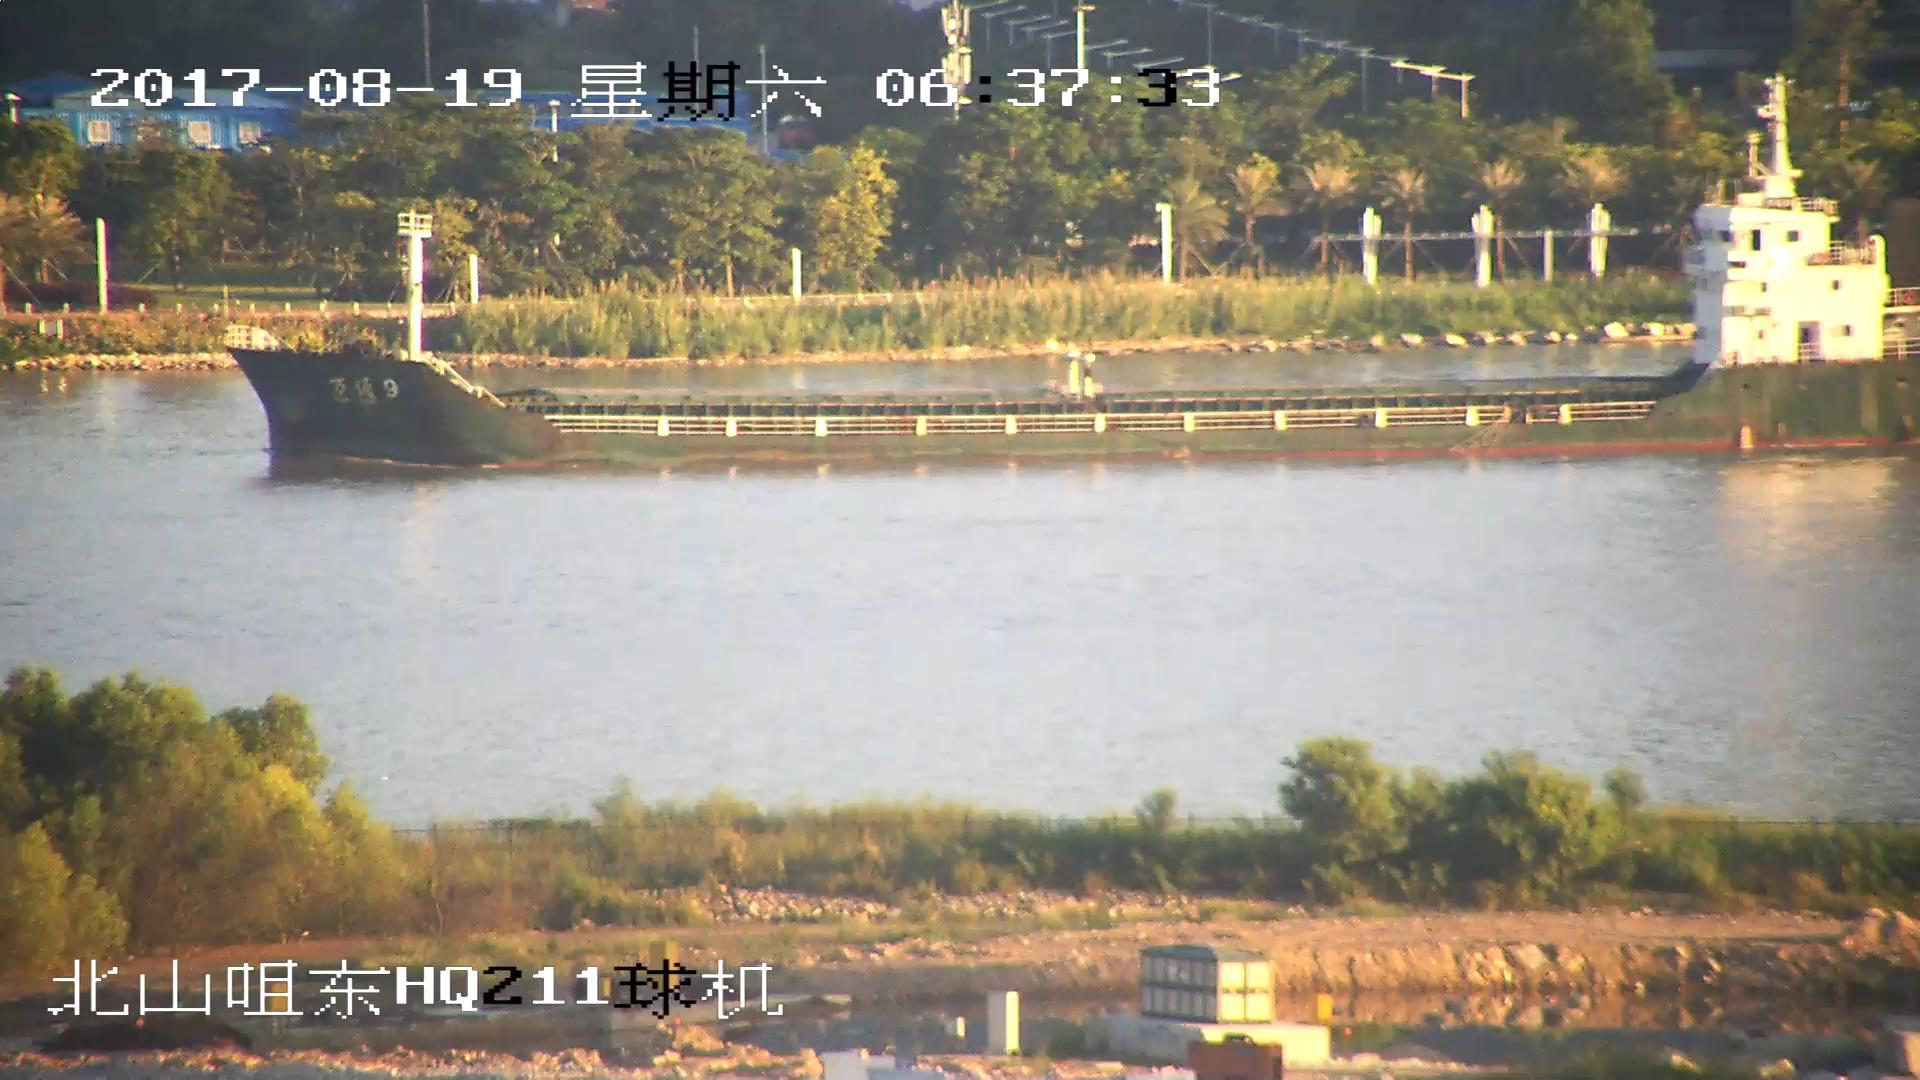Ship: (225, 108, 1920, 464)
